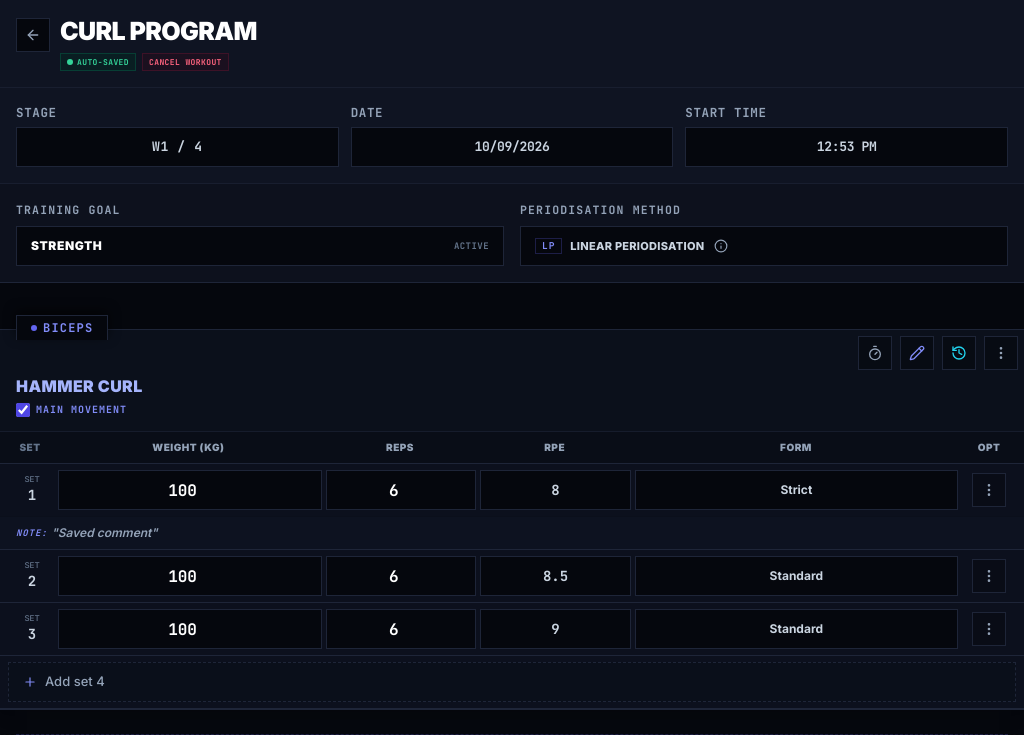
Scenario: Prog Goal in Workout Logger › enables Strength main movements and shows assigned high-RPE final targets
Click the 1st button named "Set options; press and hold to reorder" at (989, 490), box top-left (972, 473), bottom-right (1006, 507)
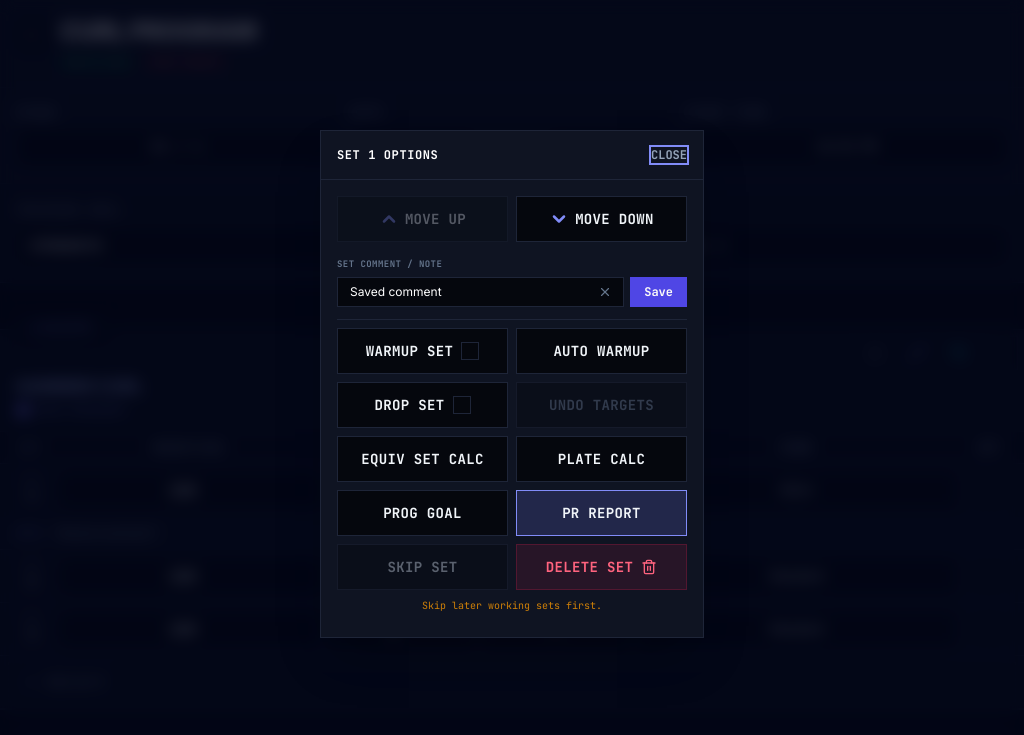
Click the button "Prog Goal" at (422, 513), box top-left (337, 490), bottom-right (508, 536)
(page scrolled)
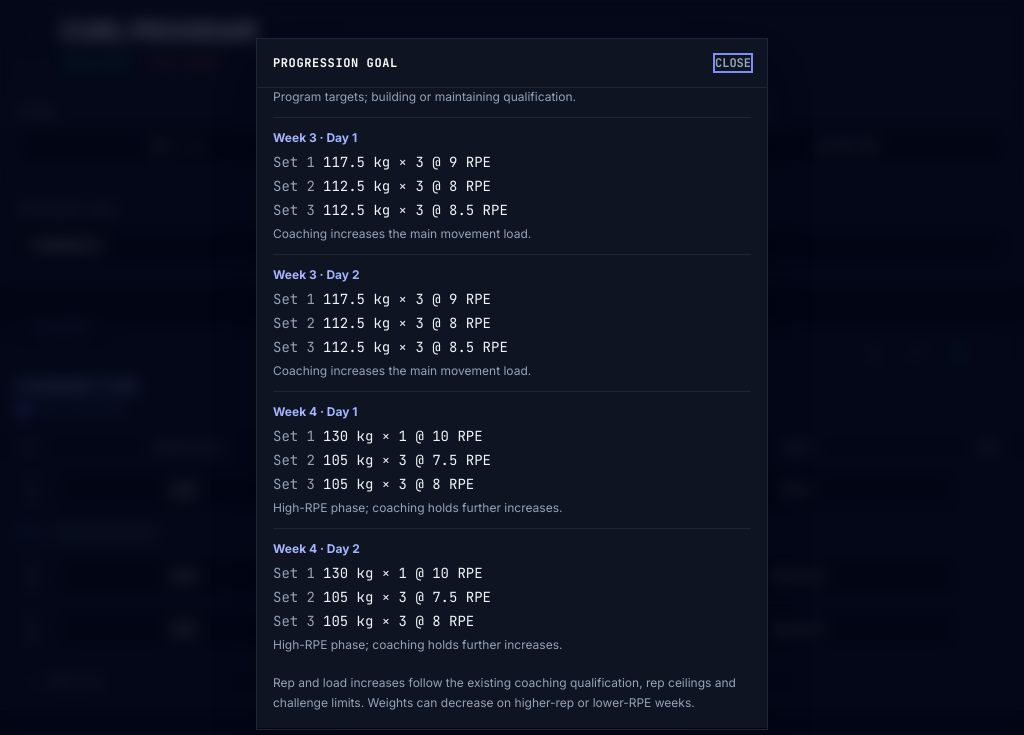
Now the heading "Progression goal" is shown, box top-left (273, 55), bottom-right (398, 71)
Now the 2nd list item "Set 1 130 kg × 1 @ 10 RPE" is shown, box top-left (273, 564), bottom-right (483, 582)
